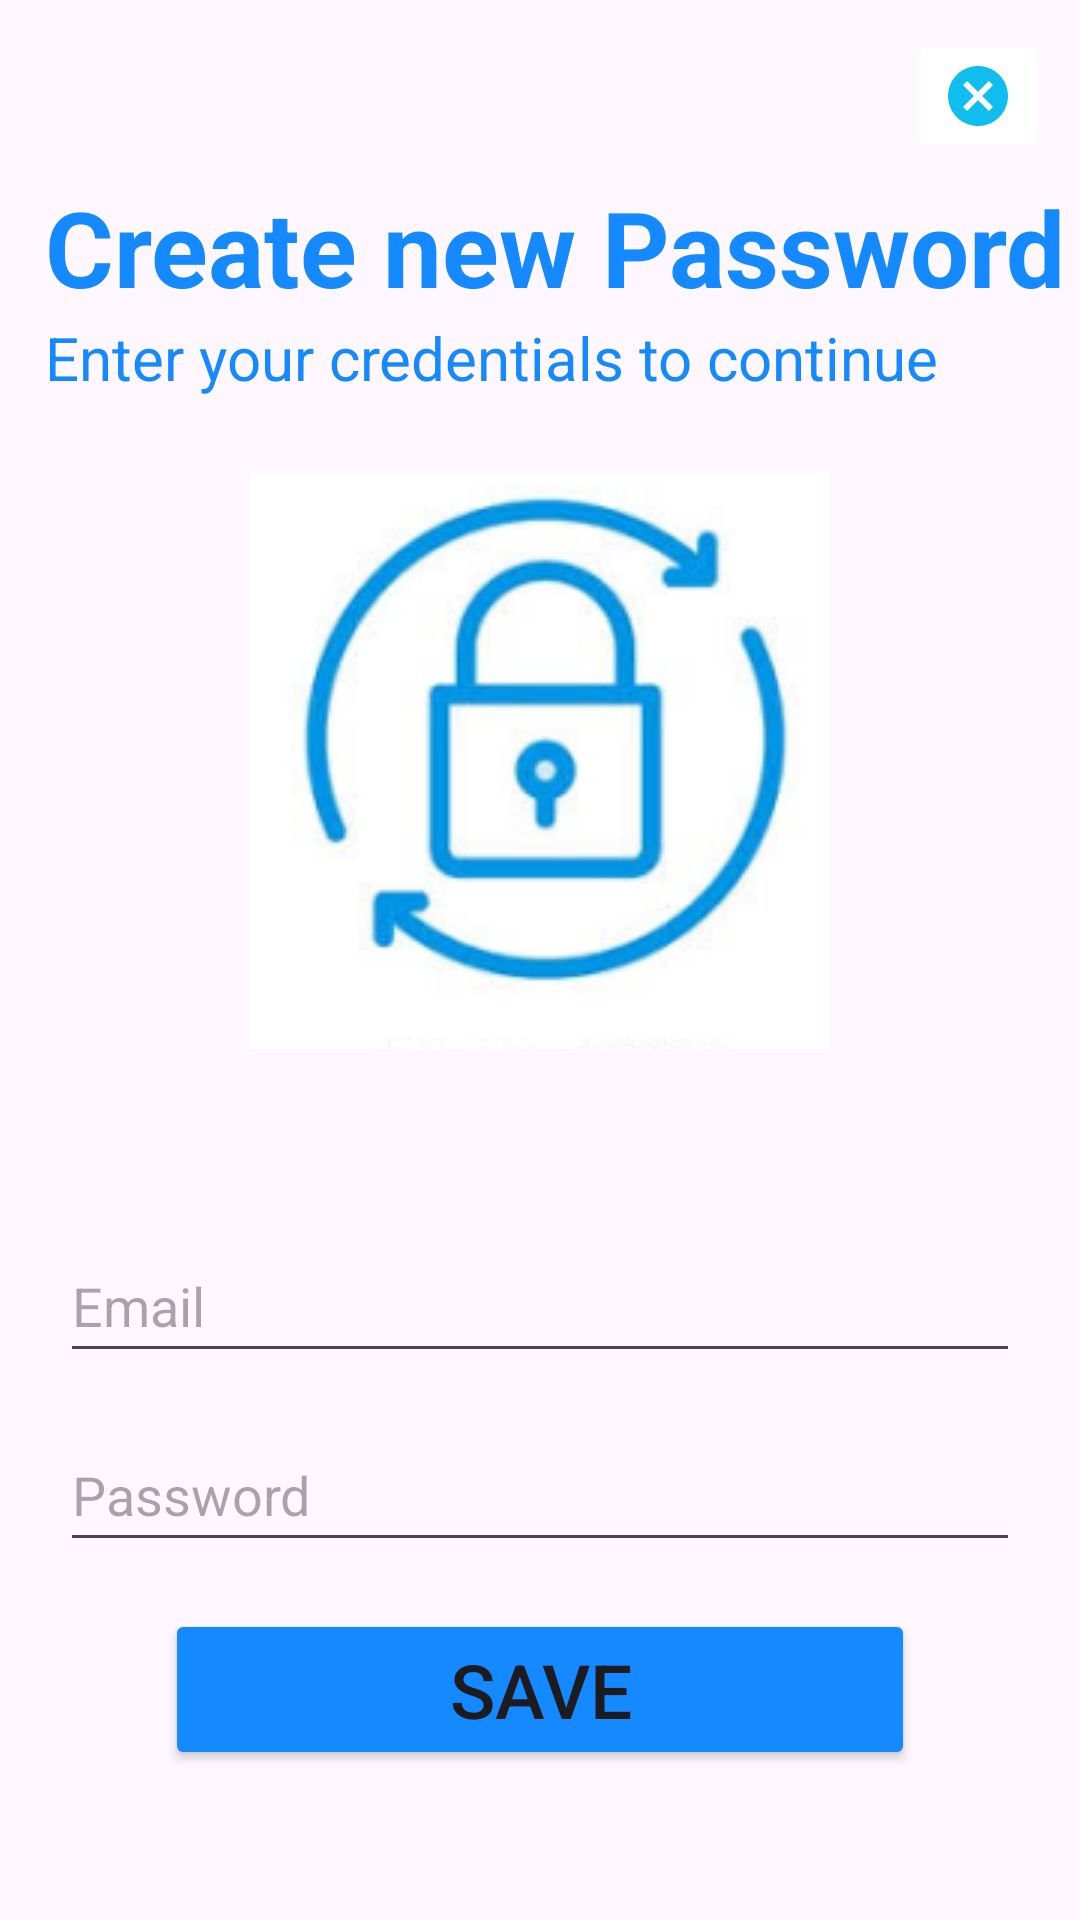

Icons on this 1080px×1920px Android screen, each with its box as region(x1, y1, x2, y2):
cancel: region(948, 66, 1008, 126)
